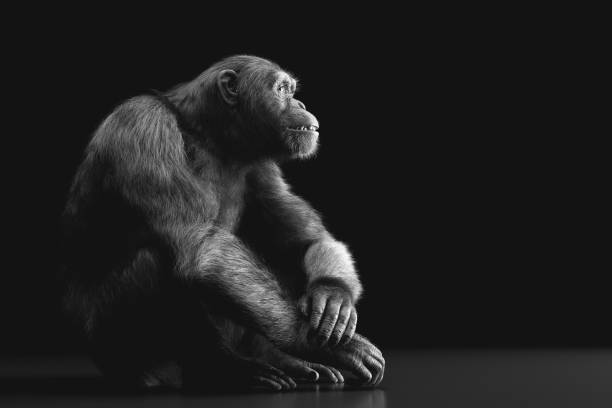chimpanzee: (204, 49, 346, 177)
